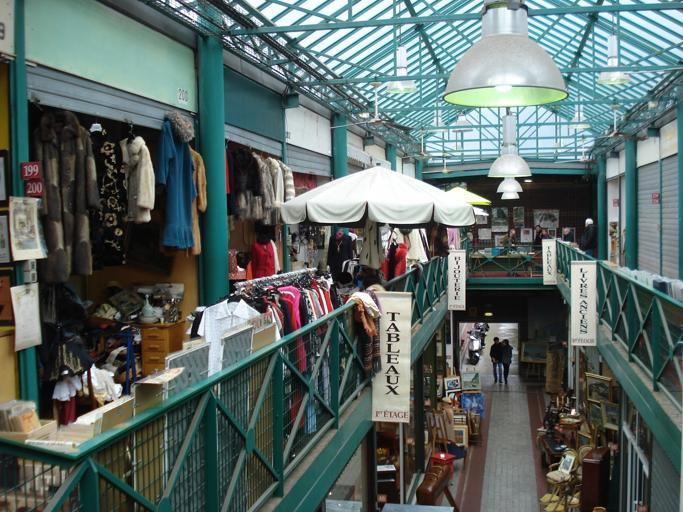non-vehicle: (466, 329, 486, 365), (473, 322, 489, 346)
